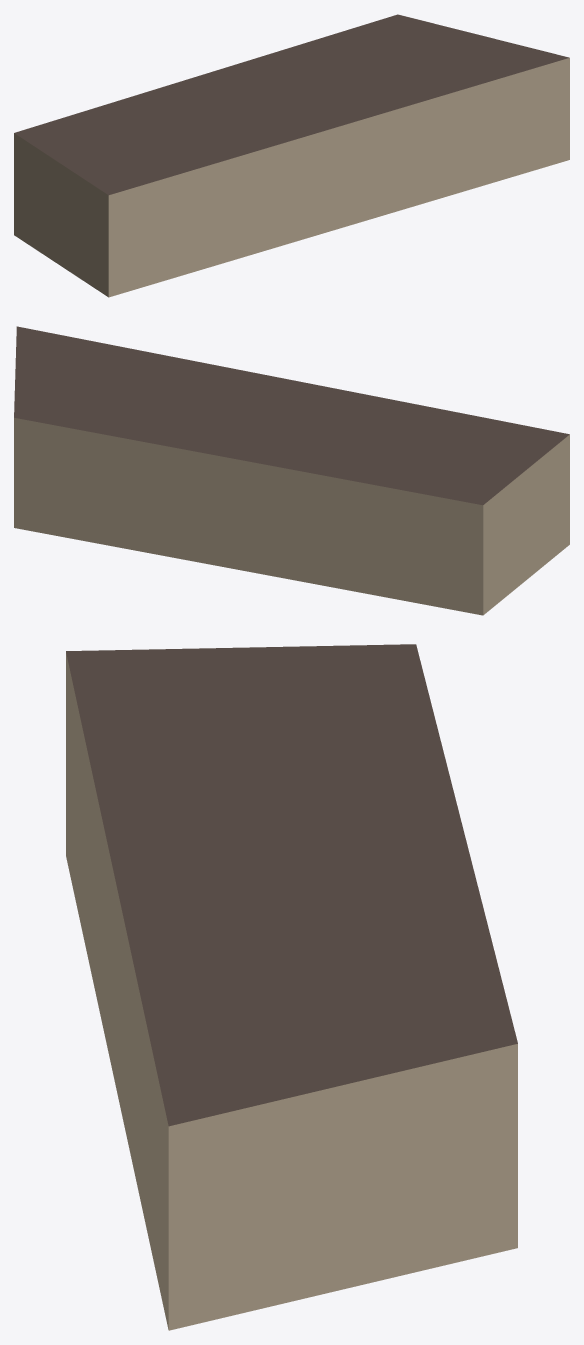
3 renders of one model, top to bottom at view 1: azimuth 30°, elevation 25°; view 2: azimuth 150°, elevation 25°; view 3: azimuth 270°, elevation 25°, orthographic. The views are drawn at different scales.
Visible parts, largest first — view 1: HP-w1512911261; view 2: HP-w1512911261; view 3: HP-w1512911261.
Part boxes in pixels (<box>): HP-w1512911261: <box>14,14,569,297</box>; HP-w1512911261: <box>14,326,569,615</box>; HP-w1512911261: <box>66,644,517,1330</box>.
Size of the model in its own units: 45.55 by 9 by 18.05.
